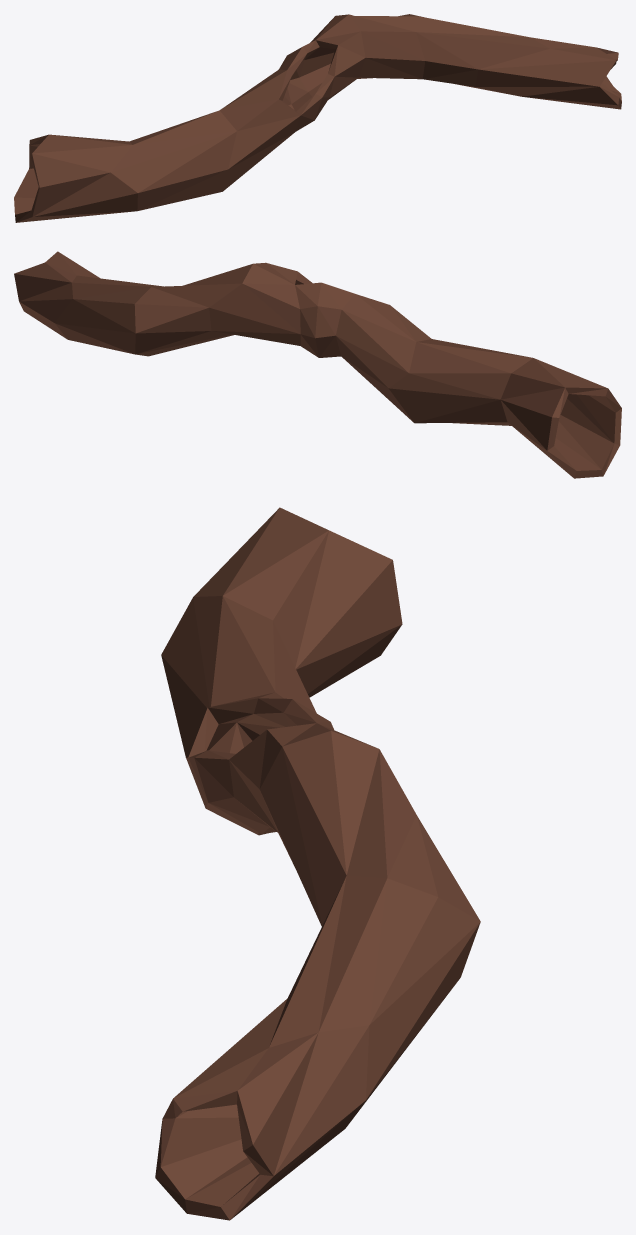
File: Wooden Log_3.fbx
The picture shows the model from 3 angles, top to bottom: view 1: azimuth 30°, elevation 25°; view 2: azimuth 150°, elevation 25°; view 3: azimuth 270°, elevation 25°; orthographic projection. The views are drawn at different scales.
Parts seen in each view (by area): view 1: Wooden Log_3; view 2: Wooden Log_3; view 3: Wooden Log_3.
Part boxes in pixels (x1,y1,x2,y2): Wooden Log_3: [14, 14, 621, 222]; Wooden Log_3: [14, 251, 621, 478]; Wooden Log_3: [155, 507, 480, 1220].
Size of the model in its own units: 5.16 by 1.08 by 1.24.
